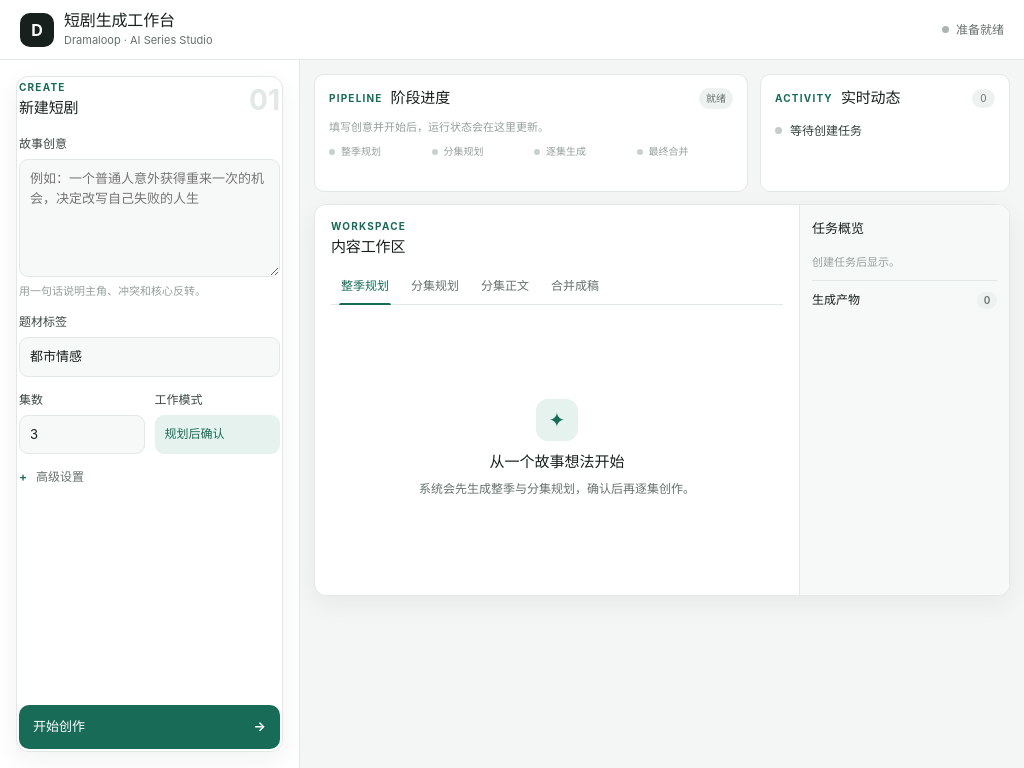
launches an episodic run and renders merged result
In the text box named "idea": (150, 218) top-left (19, 159), bottom-right (280, 276), type "被未婚夫当众退婚后，她转身嫁给了他的死对头"
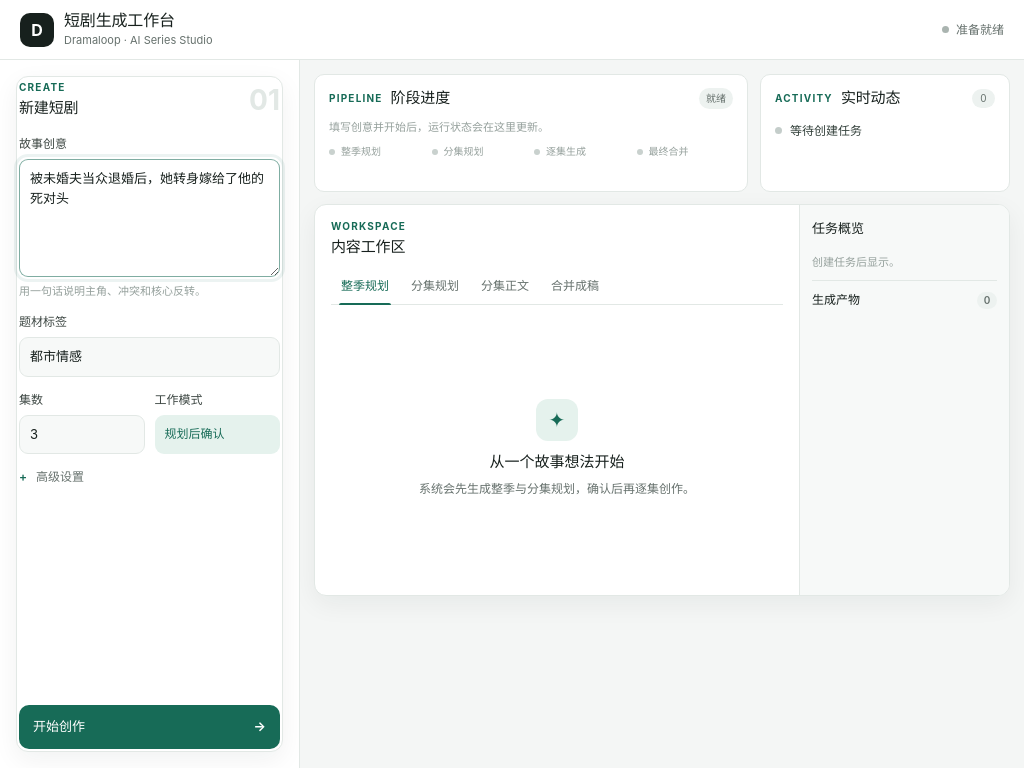
Replace the text in the number field named "episode count" with "1": (82, 434) top-left (19, 414), bottom-right (144, 454)
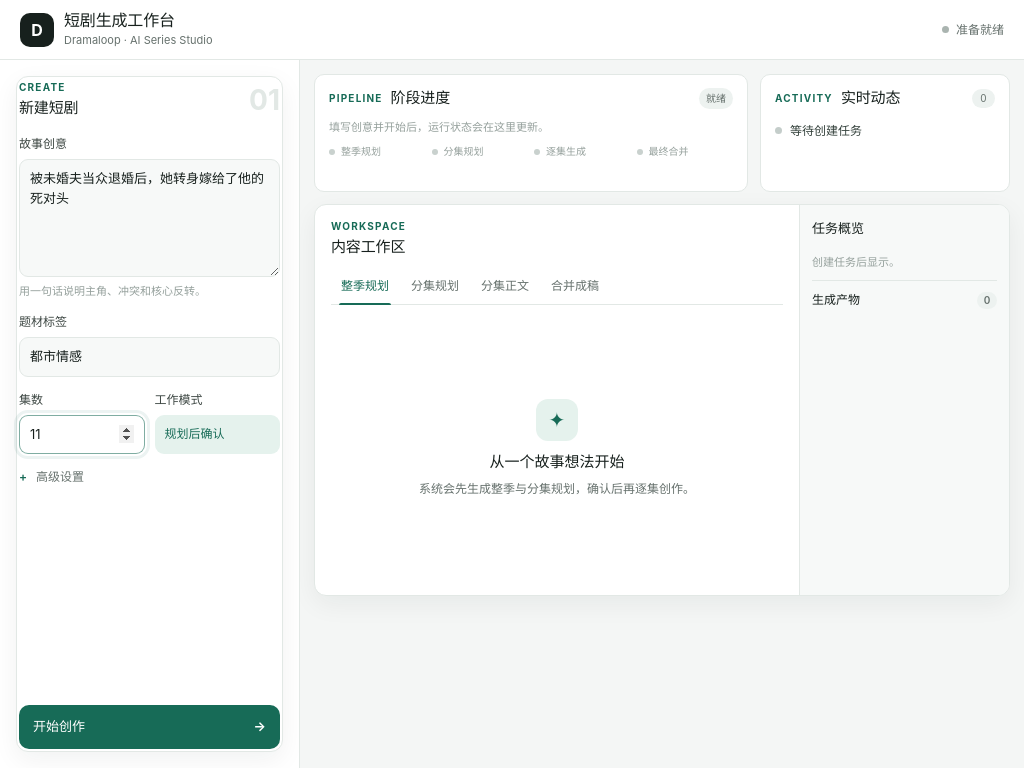
Click the button "开始创作 →": click(59, 726) top-left (19, 705), bottom-right (280, 749)
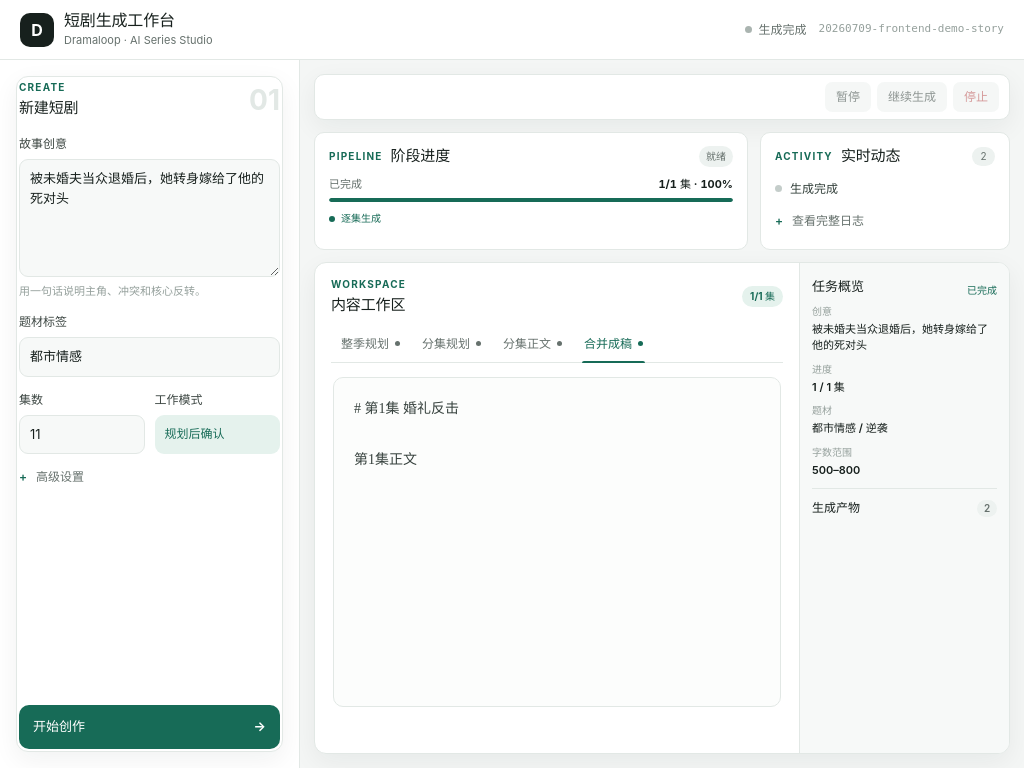
Now the text "1/1 集 · 100%" is shown, box top-left (658, 176), bottom-right (733, 192)
Click the tab "分集正文": click(532, 344) top-left (493, 326), bottom-right (572, 362)
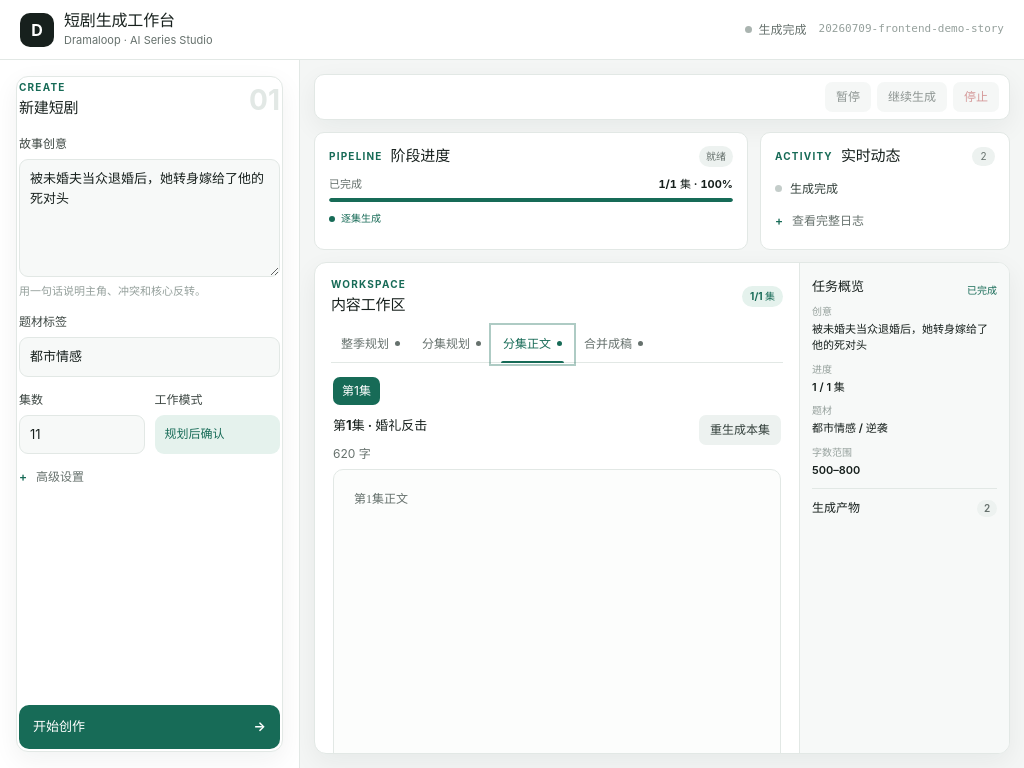
Now the text "第1集正文" is shown, box top-left (354, 492), bottom-right (408, 506)
Now the heading "第1集 · 婚礼反击" is shown, box top-left (333, 416), bottom-right (427, 436)
